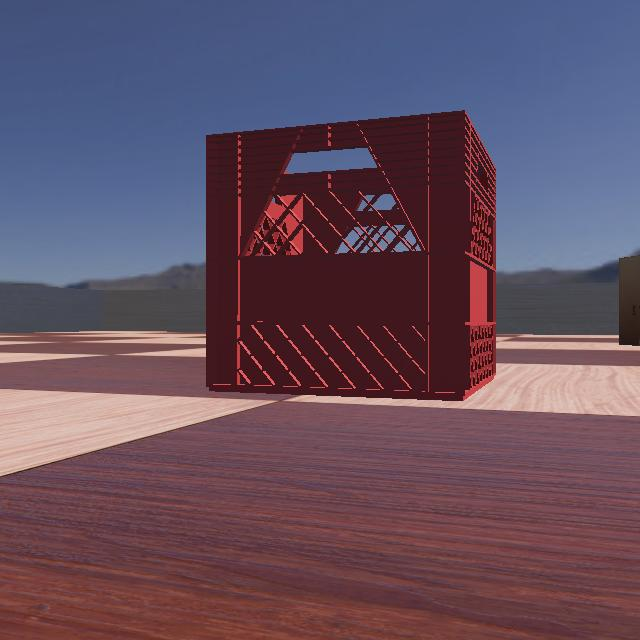plastic-crate: (190, 109, 562, 401)
